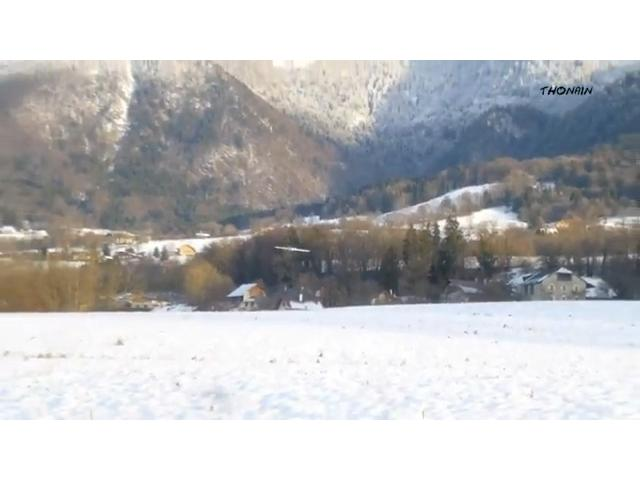Anti-Drone: (272, 243, 312, 257)
